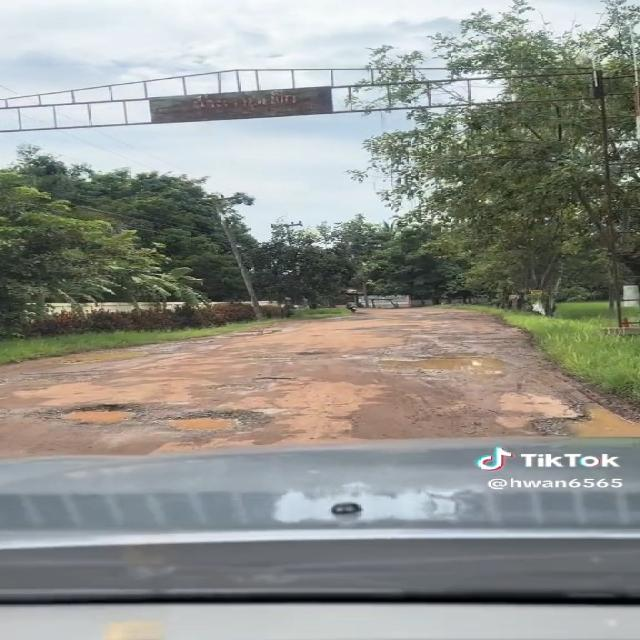Poth-hole: (282, 398, 418, 443)
